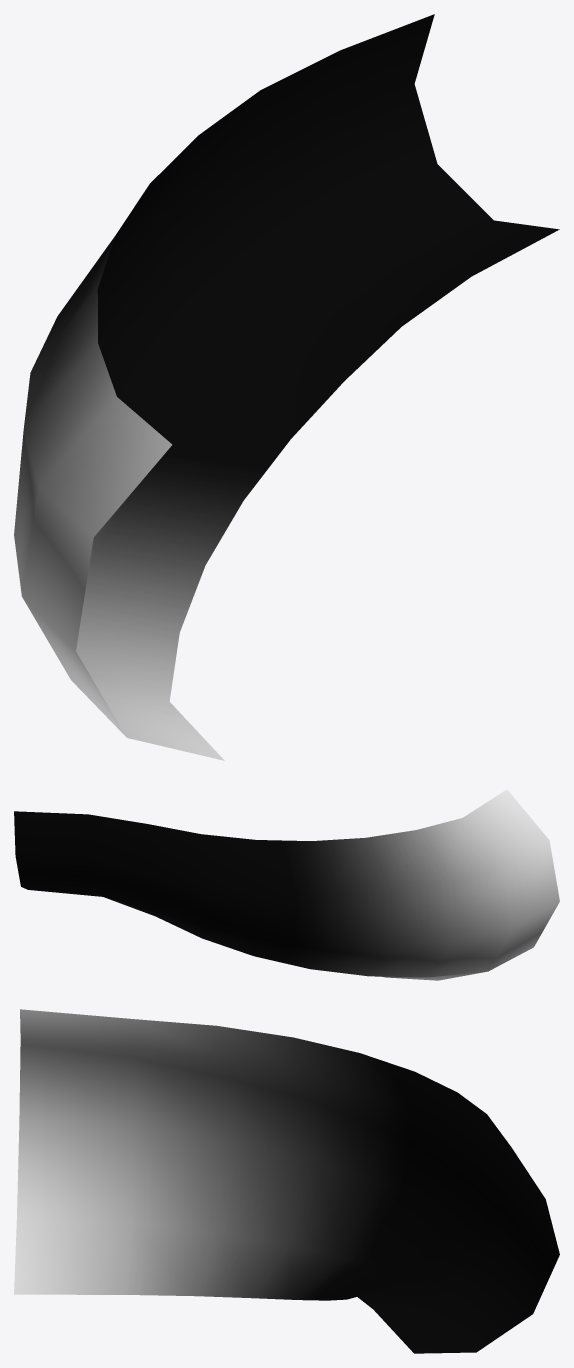
Rendered from Trajectory001.fbx.
3 renders of one model, top to bottom at view 1: azimuth 30°, elevation 25°; view 2: azimuth 150°, elevation 25°; view 3: azimuth 270°, elevation 25°, orthographic. The views are drawn at different scales.
Parts seen in each view (by area): view 1: Trajectory001; view 2: Trajectory001; view 3: Trajectory001.
Boxes of the visible parts, x1,y1,x2,y2 form: Trajectory001: (14, 14, 559, 760); Trajectory001: (14, 789, 559, 980); Trajectory001: (14, 1009, 559, 1353).
Size of the model in its own units: 100 by 50.76 by 79.79.
